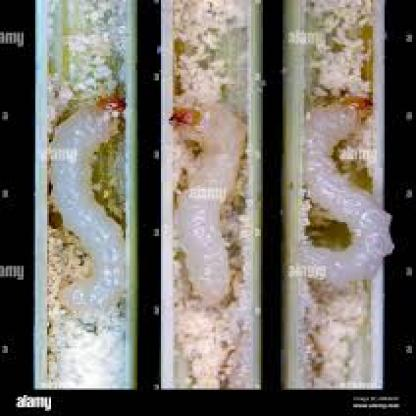sawfly: (44, 89, 140, 328), (288, 89, 395, 300), (170, 95, 247, 308)
